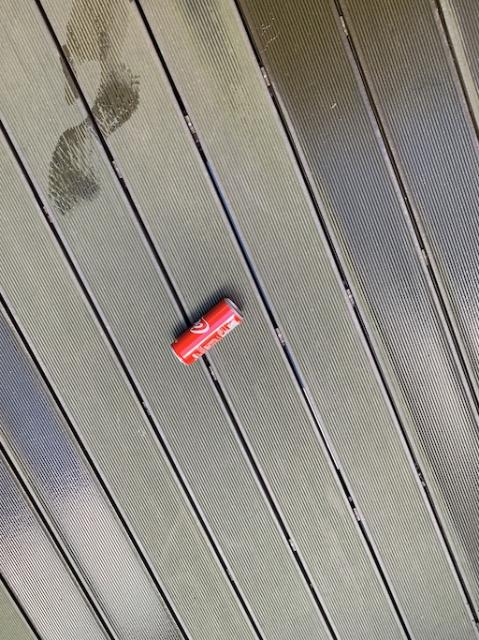metal: (172, 299, 242, 364)
